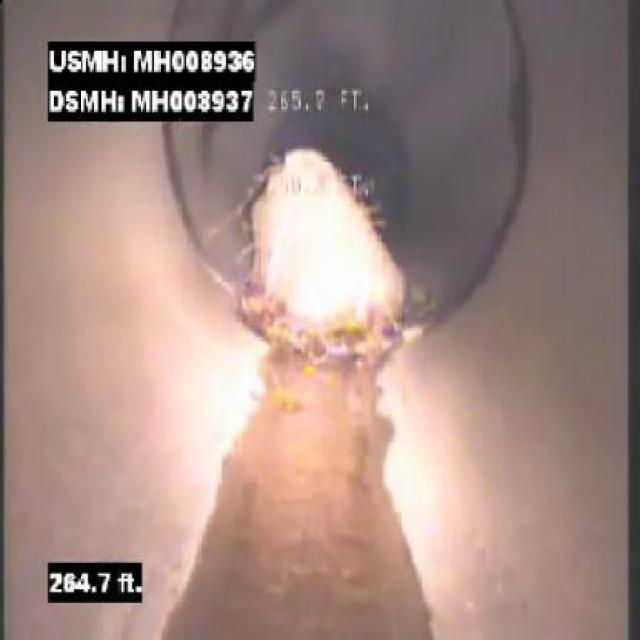Obstacle: (211, 135, 431, 360)
